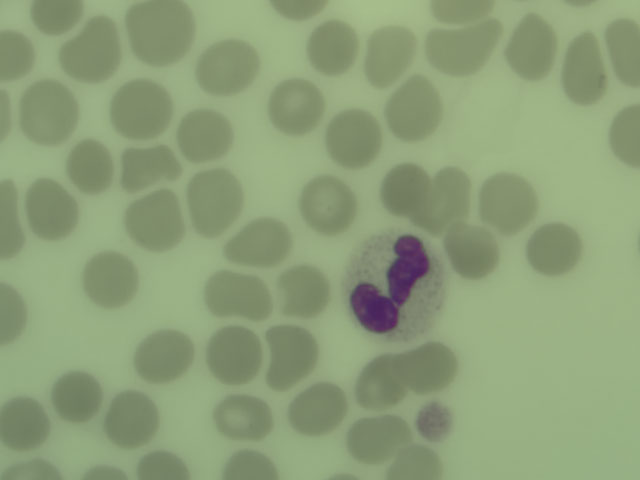Platelets: (421, 404, 451, 437)
RBC: (123, 1, 190, 64), (110, 78, 170, 139), (224, 216, 291, 268), (423, 23, 497, 69), (20, 81, 76, 140), (65, 18, 121, 77), (196, 38, 254, 93), (189, 169, 238, 232), (84, 255, 140, 310), (128, 192, 184, 247), (22, 182, 78, 237), (268, 77, 324, 132), (300, 176, 356, 231), (327, 110, 383, 165), (385, 83, 441, 138), (444, 223, 500, 278), (381, 161, 437, 216), (423, 170, 479, 225), (481, 175, 537, 230), (526, 222, 582, 277), (406, 340, 462, 395), (287, 379, 343, 434), (202, 325, 258, 380), (274, 257, 330, 312), (175, 106, 231, 161), (104, 390, 160, 445), (48, 367, 104, 422), (134, 327, 190, 382), (1, 392, 56, 447), (205, 267, 265, 317), (559, 34, 600, 107), (269, 320, 313, 387), (347, 410, 411, 455), (507, 16, 552, 80), (364, 23, 405, 88), (307, 19, 355, 72), (216, 394, 274, 436), (359, 350, 404, 403), (124, 146, 179, 189), (610, 13, 640, 89), (1, 277, 31, 349), (377, 448, 443, 479), (69, 138, 107, 191), (31, 1, 86, 36), (429, 1, 500, 26), (613, 105, 640, 170), (225, 449, 278, 479), (1, 456, 70, 479), (1, 27, 31, 75), (139, 452, 192, 479), (82, 462, 139, 479)
WBC: (345, 237, 442, 338)
